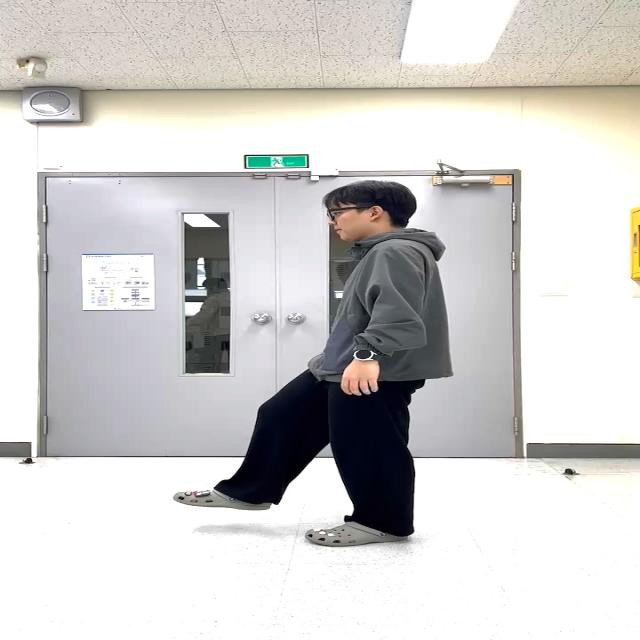leg: (171, 368, 329, 510), (305, 380, 416, 546)
